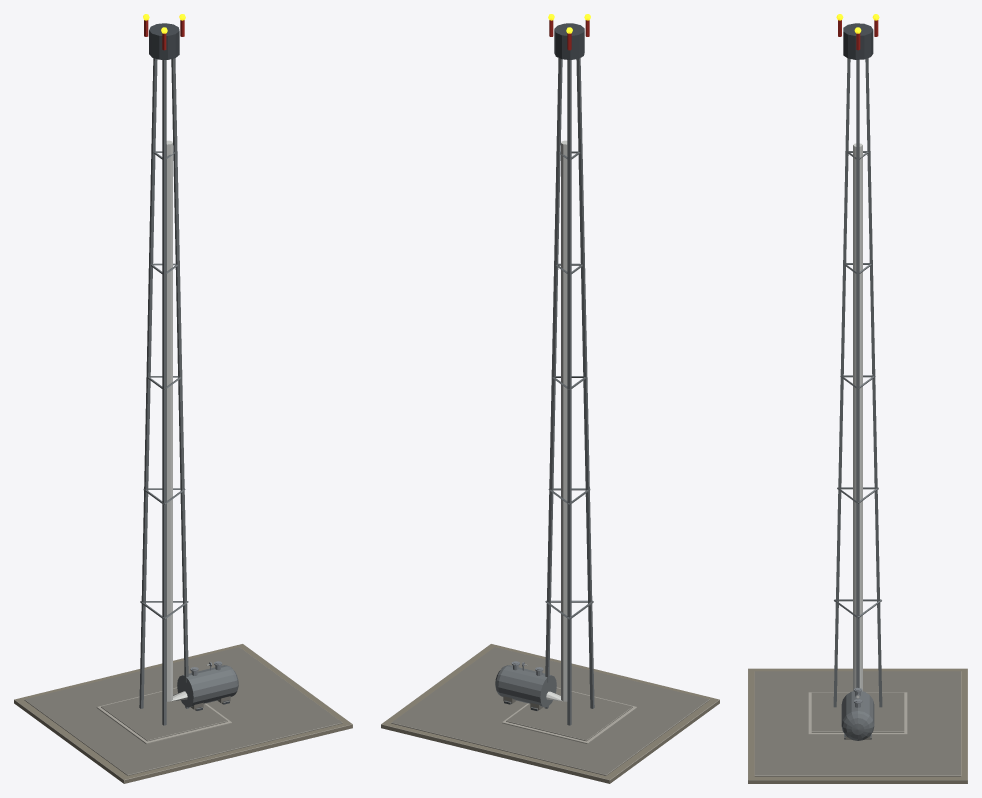
Rendered from on_flare.glb.
3 renders of one model, left to right at view 1: azimuth 30°, elevation 25°; view 2: azimuth 150°, elevation 25°; view 3: azimuth 270°, elevation 25°, orthographic.
Visible parts, largest first — view 1: on_flare; view 2: on_flare; view 3: on_flare.
Boxes of the visible parts, x1,y1,x2,y2 form: on_flare: [14, 14, 352, 783]; on_flare: [381, 14, 719, 783]; on_flare: [748, 14, 967, 783].
Size of the model in its own units: 12 by 35.16 by 10.
